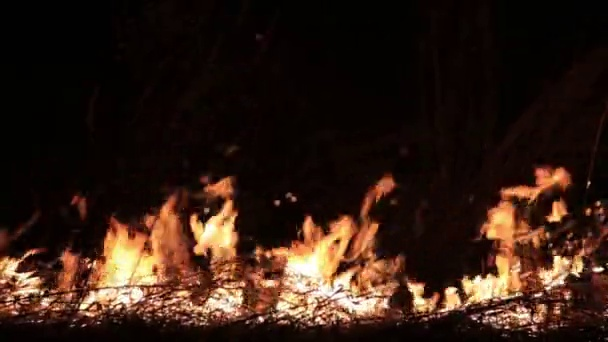fire: (410, 162, 582, 324), (82, 180, 243, 319), (252, 217, 397, 326), (1, 253, 75, 320)
